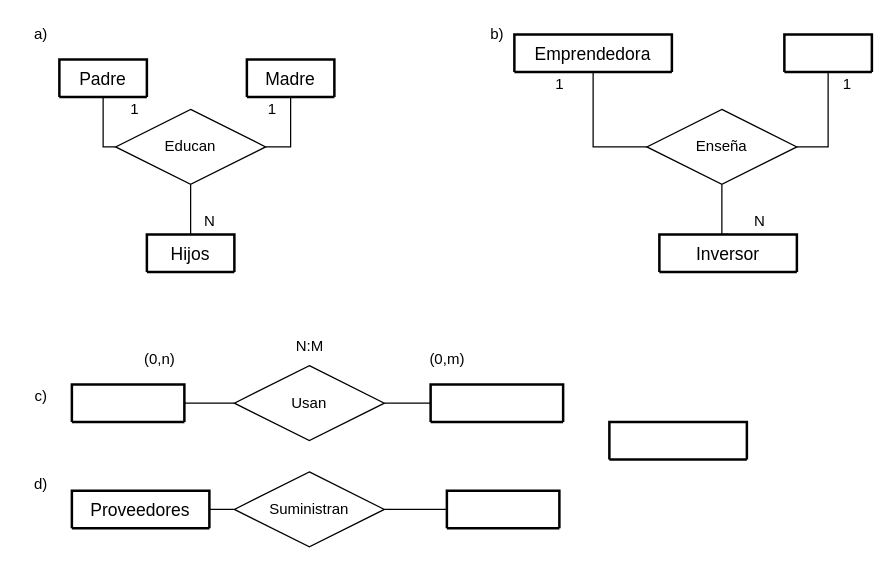
The diagram is 894 pixels wide and 569 high, and some of its shapes have lost their labels. Here are the shapes that lost their labels. From the top down, the centre of each, then its label:
pixel 827 52: Modelo
pixel 127 402: Usuarios
pixel 496 402: Máquinas
pixel 678 440: Vendedores
pixel 502 509: Productos
